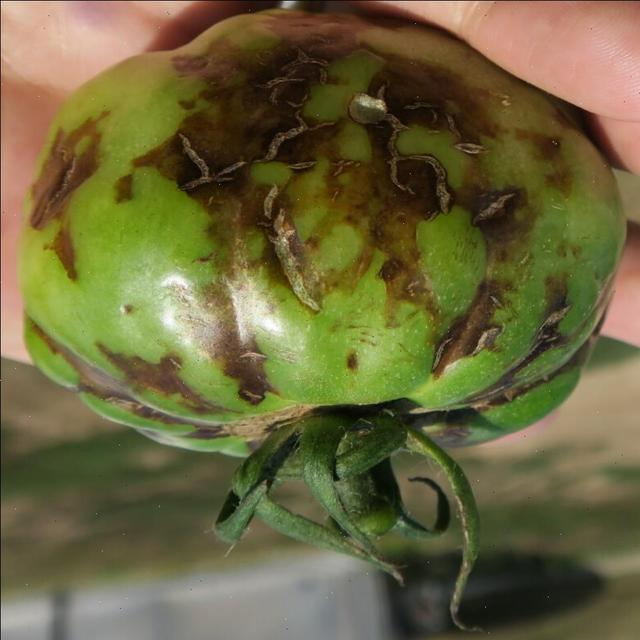Spotted wilt Virus Fruit: (75, 160, 261, 440)
